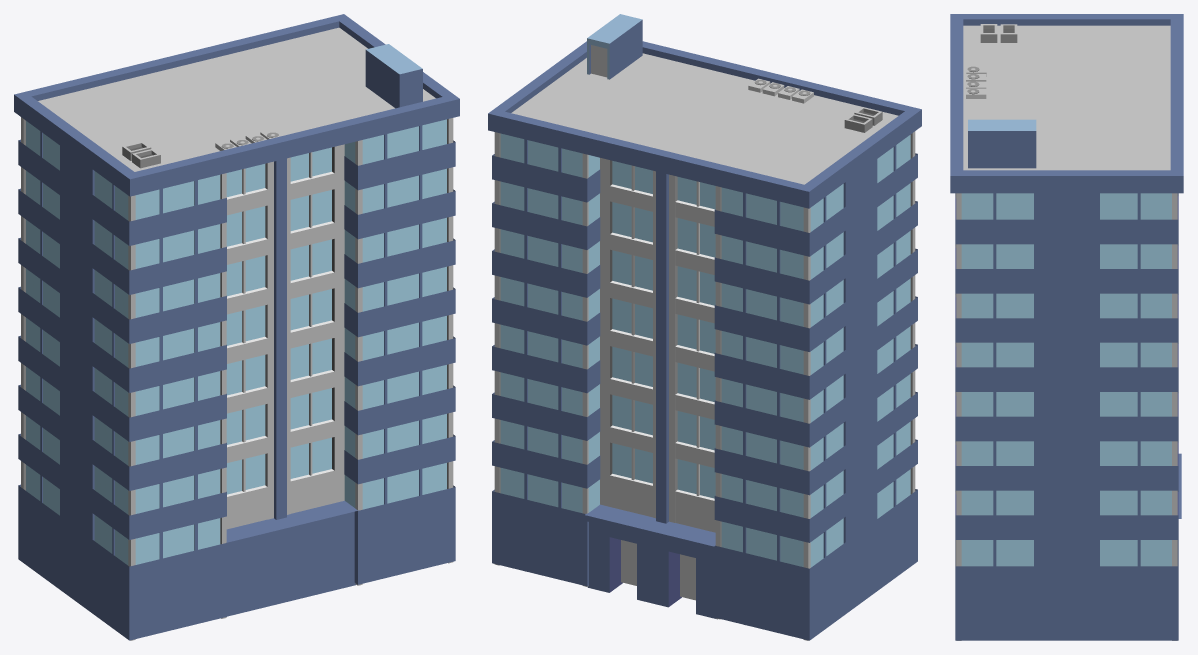
File: building8.glb
The picture shows the model from 3 angles, left to right: view 1: azimuth 30°, elevation 25°; view 2: azimuth 150°, elevation 25°; view 3: azimuth 270°, elevation 25°; orthographic projection. The views are drawn at different scales.
Parts seen in each view (by area): view 1: huitugou_2443_2811; view 2: huitugou_2443_2811; view 3: huitugou_2443_2811.
Boxes of the visible parts, <box> form: huitugou_2443_2811: <box>14,14,459,640</box>; huitugou_2443_2811: <box>488,14,921,640</box>; huitugou_2443_2811: <box>950,14,1183,640</box>.
Size of the model in its own units: 5.53 by 7.96 by 3.37.
1 material, 1 textured.
